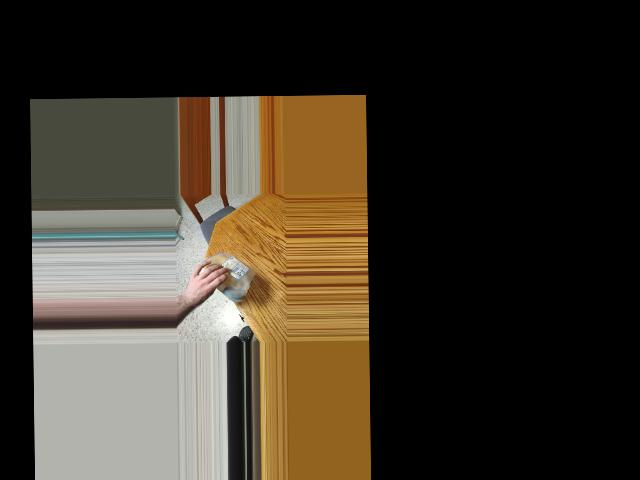cheese: (194, 250, 257, 302)
